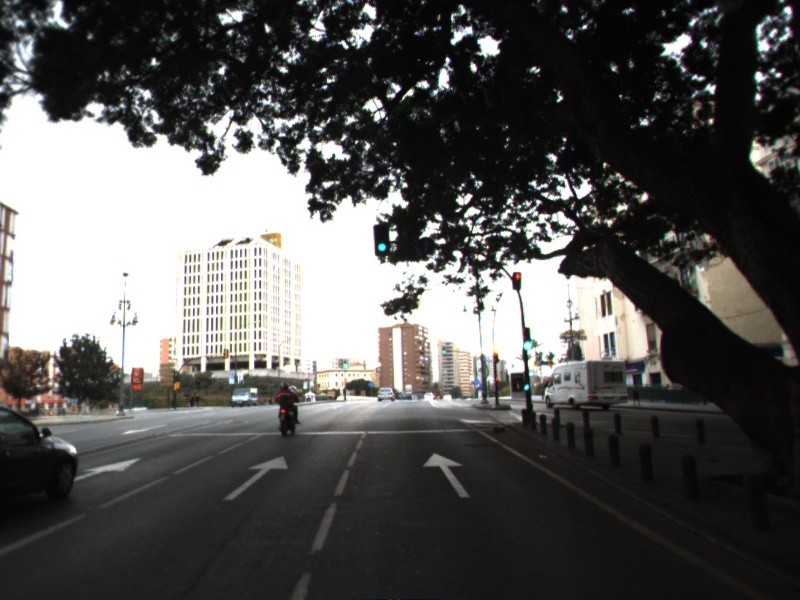STRAIGHT: (221, 454, 290, 502), (421, 450, 474, 500), (73, 455, 145, 483)
